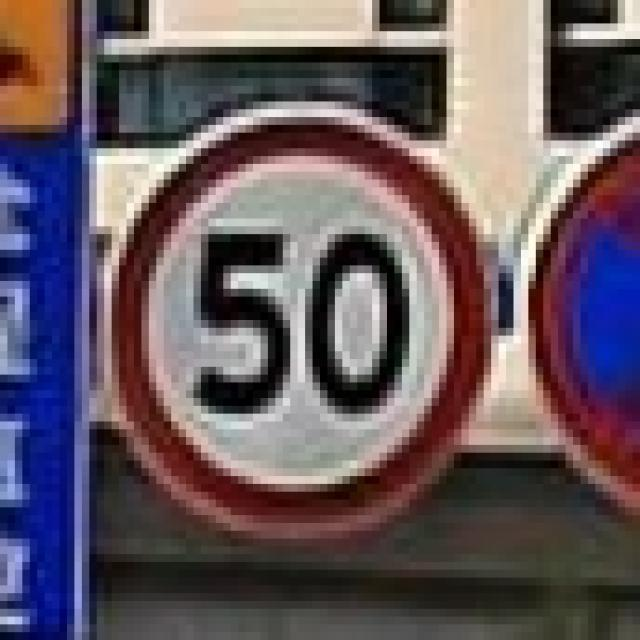Speed Limit -50-: (188, 227, 414, 424)
